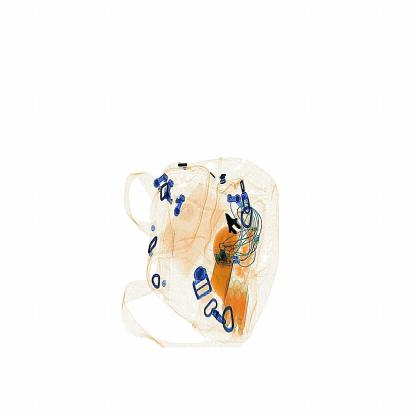gun: (222, 197, 252, 249)
